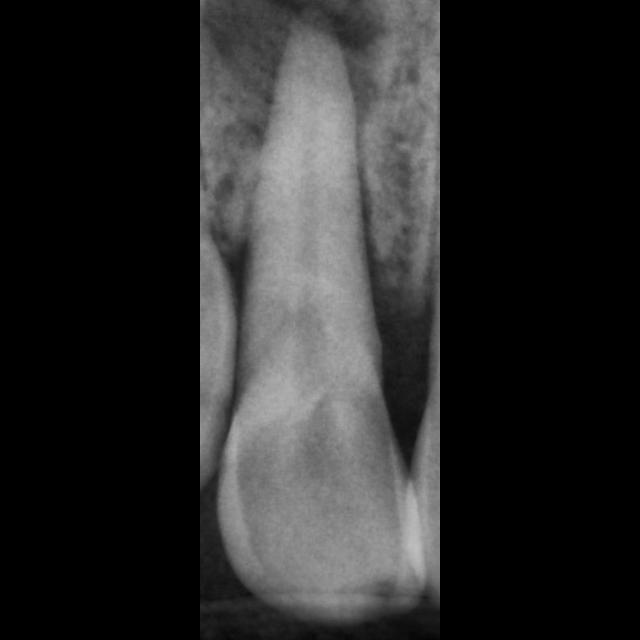tooth: (216, 0, 426, 630)
